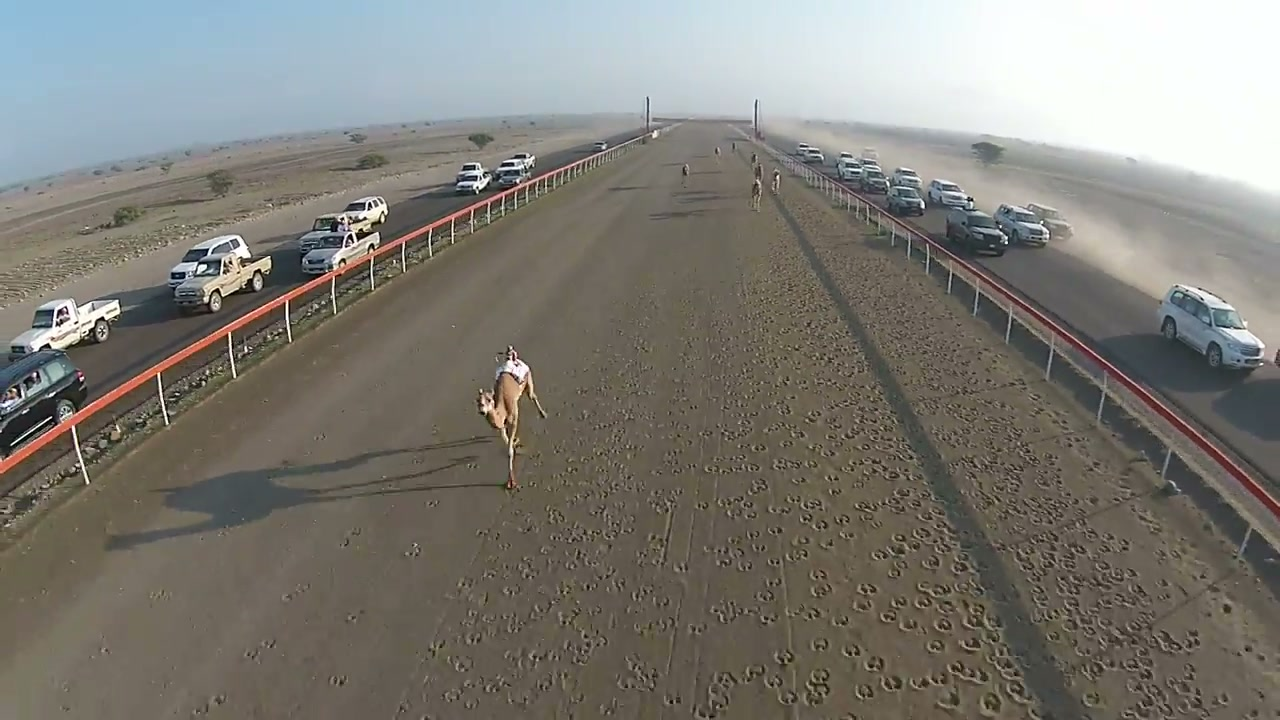animal_foot_print: (409, 190, 1275, 718)
